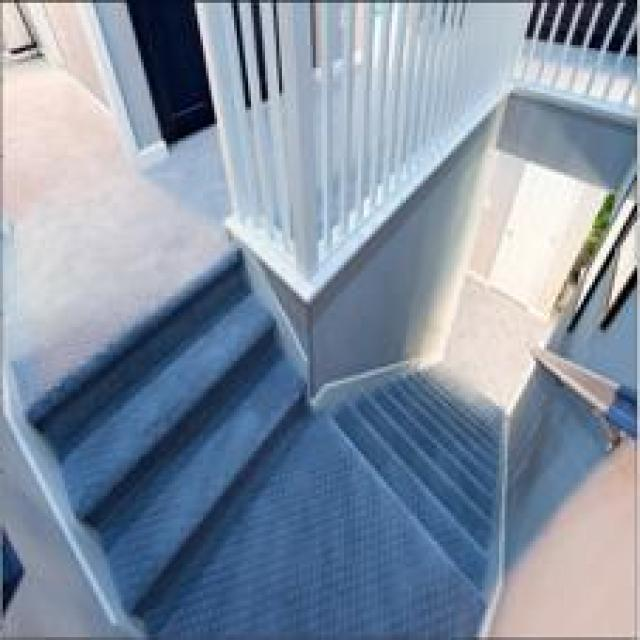downstair: (322, 320, 562, 590)
